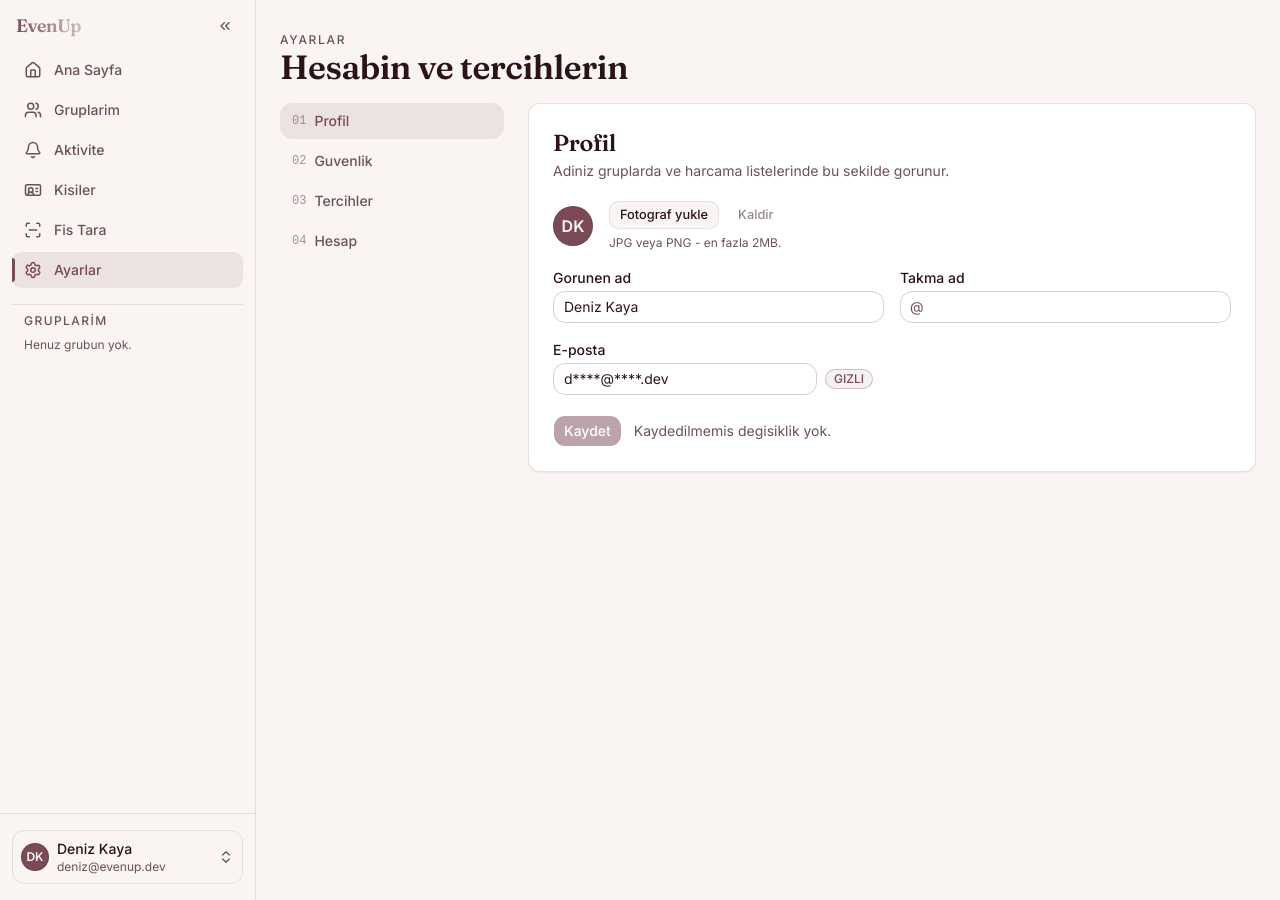
it: Ayarlar > profil › gecersiz takma ad bicimi istemcide yakalanir, istek atilmaz
Type "a" into the field labelled "Takma ad". click: (1066, 307)
box: [900,291,1231,323]
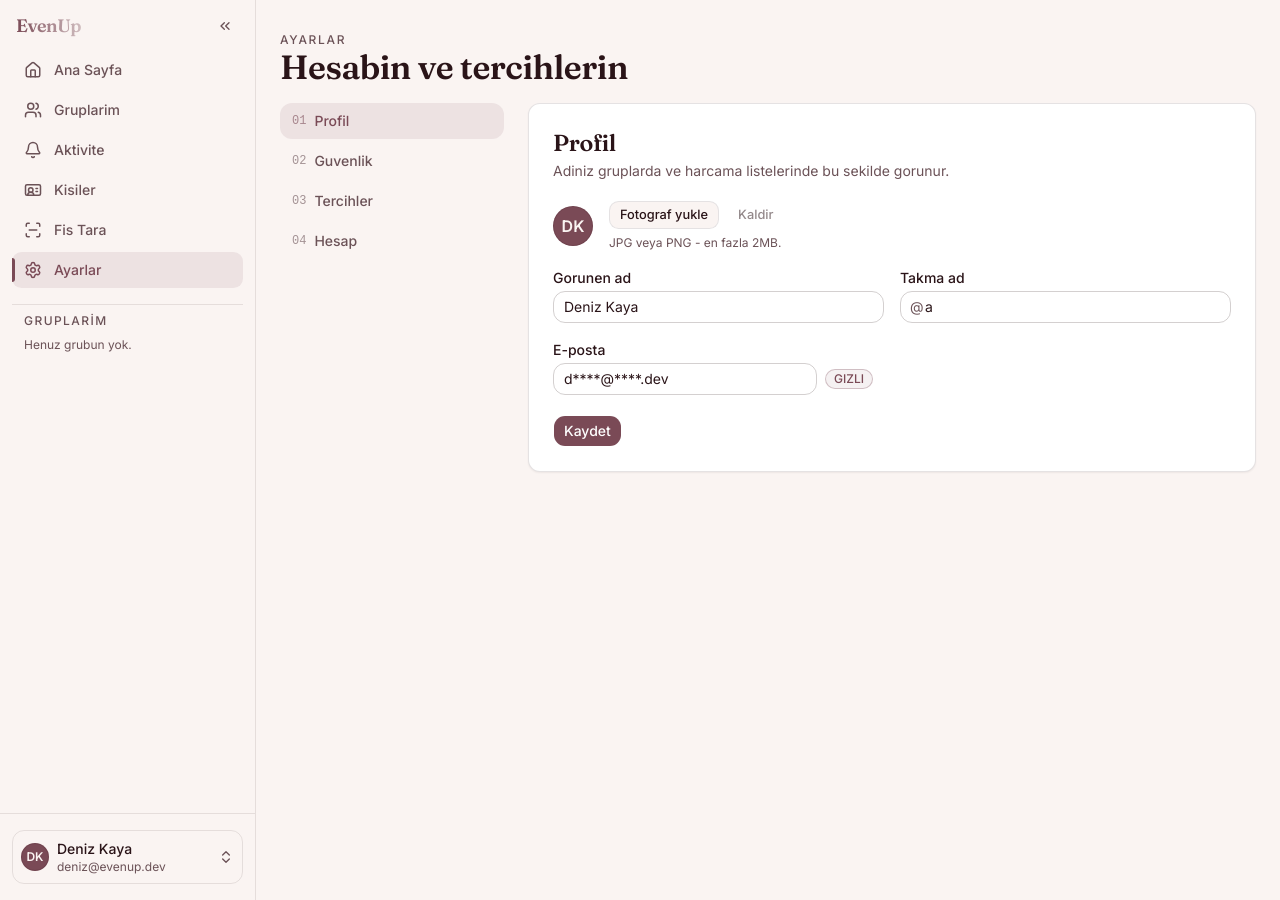
Click the button "Kaydet". click: (587, 431)
box: [553,415,622,447]
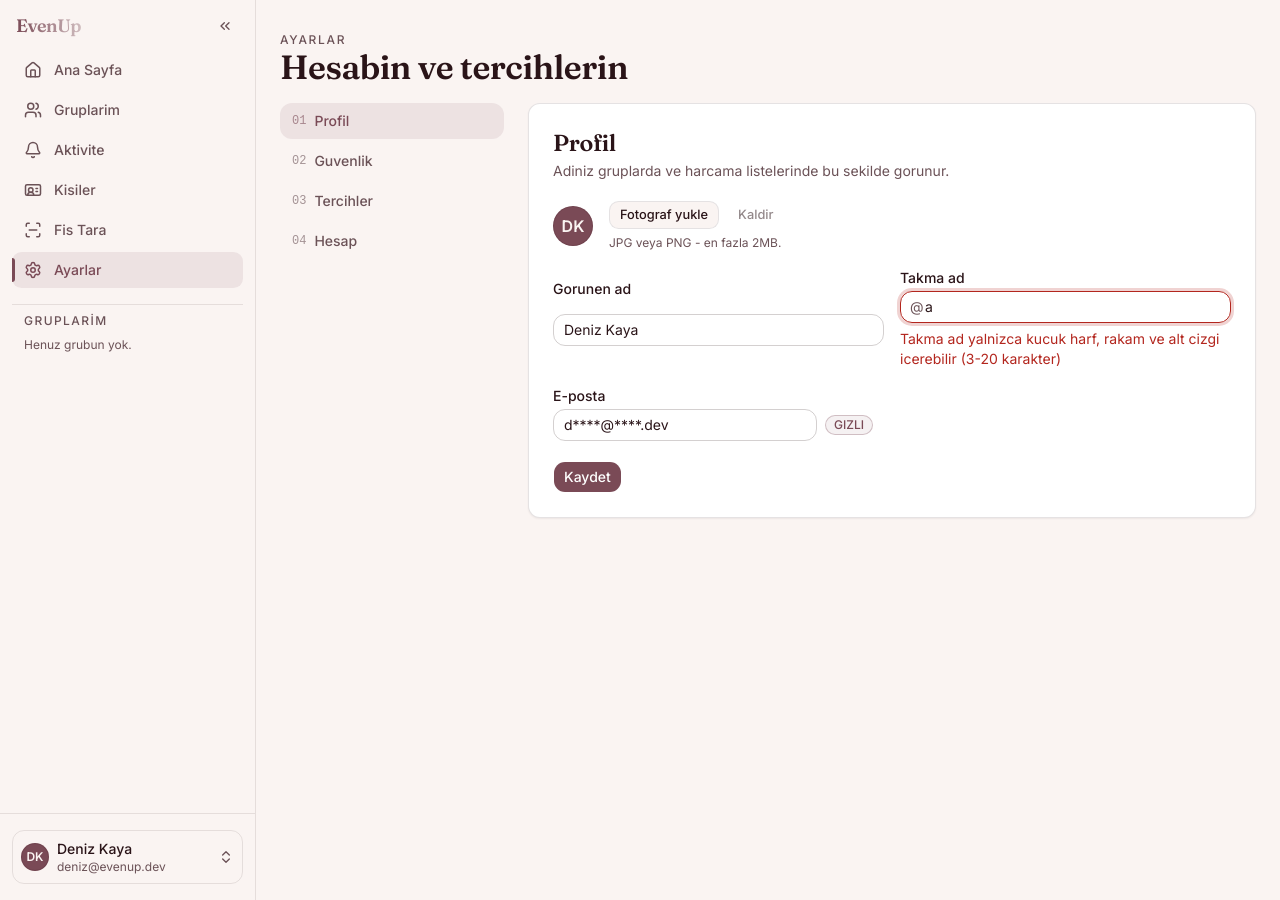
Now the text "Takma ad yalnizca kucuk harf, rakam ve alt cizgi icerebilir (3-20 karakter)" is shown, box [900,329,1231,369]
